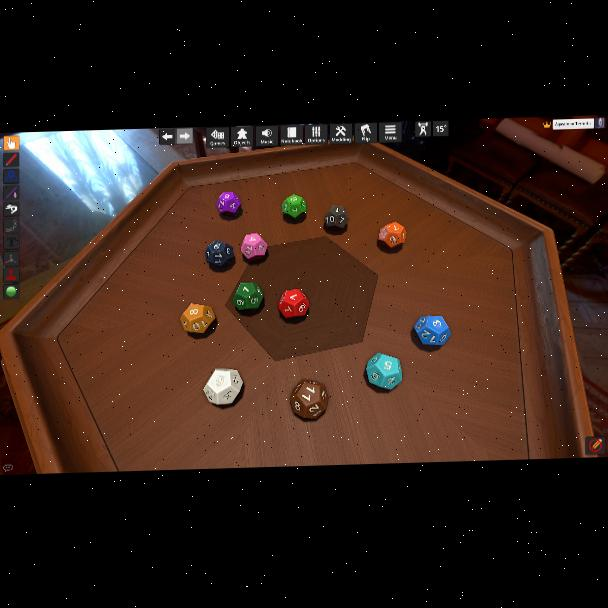d12: (288, 379, 328, 420), (202, 366, 240, 403), (366, 353, 401, 390), (181, 303, 215, 334), (417, 315, 451, 346), (232, 282, 264, 311), (278, 288, 308, 318), (204, 240, 234, 269), (240, 233, 268, 260), (376, 221, 402, 250), (216, 191, 241, 216), (323, 205, 347, 231), (282, 195, 306, 220)
